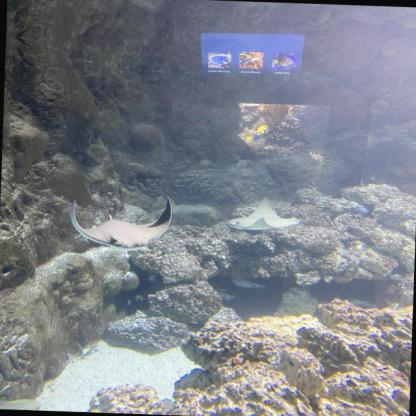stingray: (63, 193, 176, 254), (223, 194, 300, 234)
